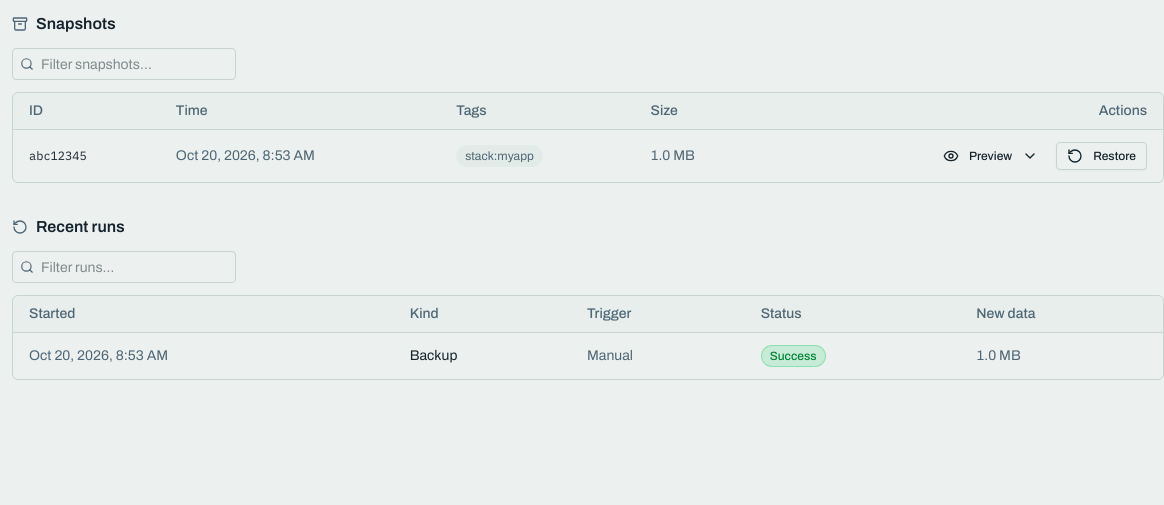
Test case: BackupsTab — preview panel names the repository fault › keeps the generic sentence for a failure the helper does not recognise
Click the button with aria-label "show preview": (991, 156) [933, 142, 1048, 170]
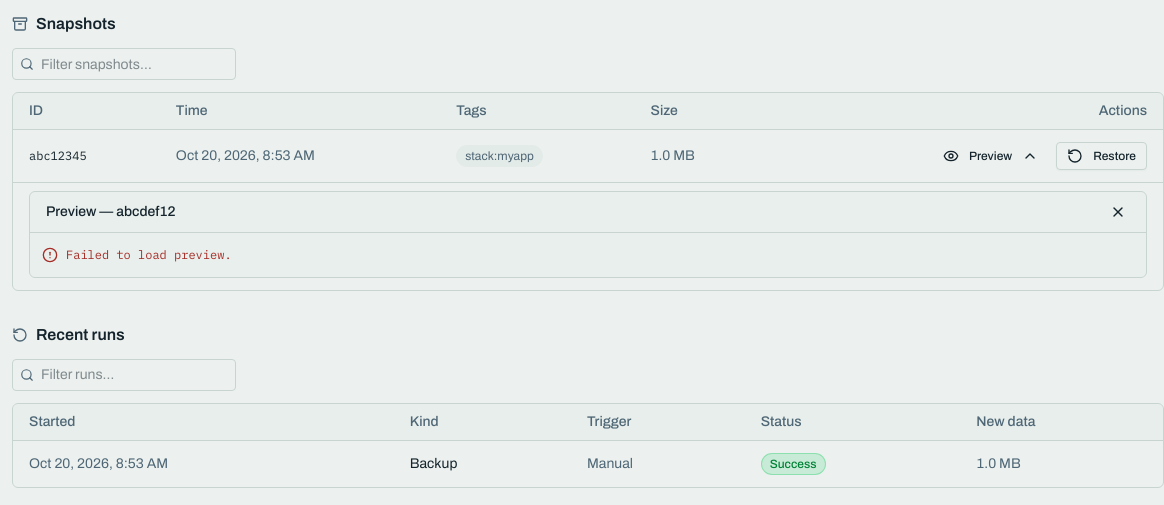
Now the text "Failed to load preview." is shown, box [42, 247, 232, 263]
